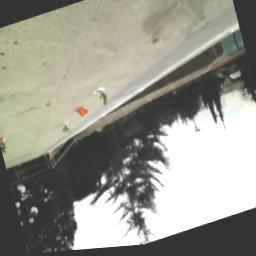herb: (98, 92, 111, 111), (62, 124, 73, 138), (1, 140, 9, 155)
wild: (77, 107, 92, 121)
